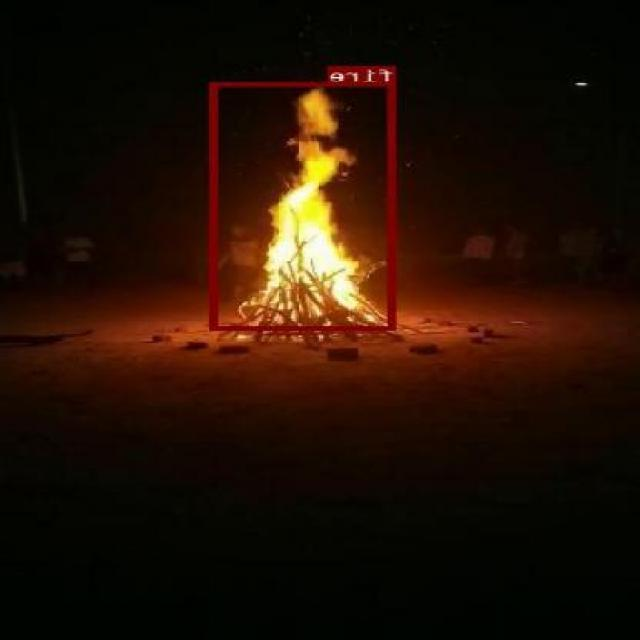Fire: (212, 81, 397, 330)
